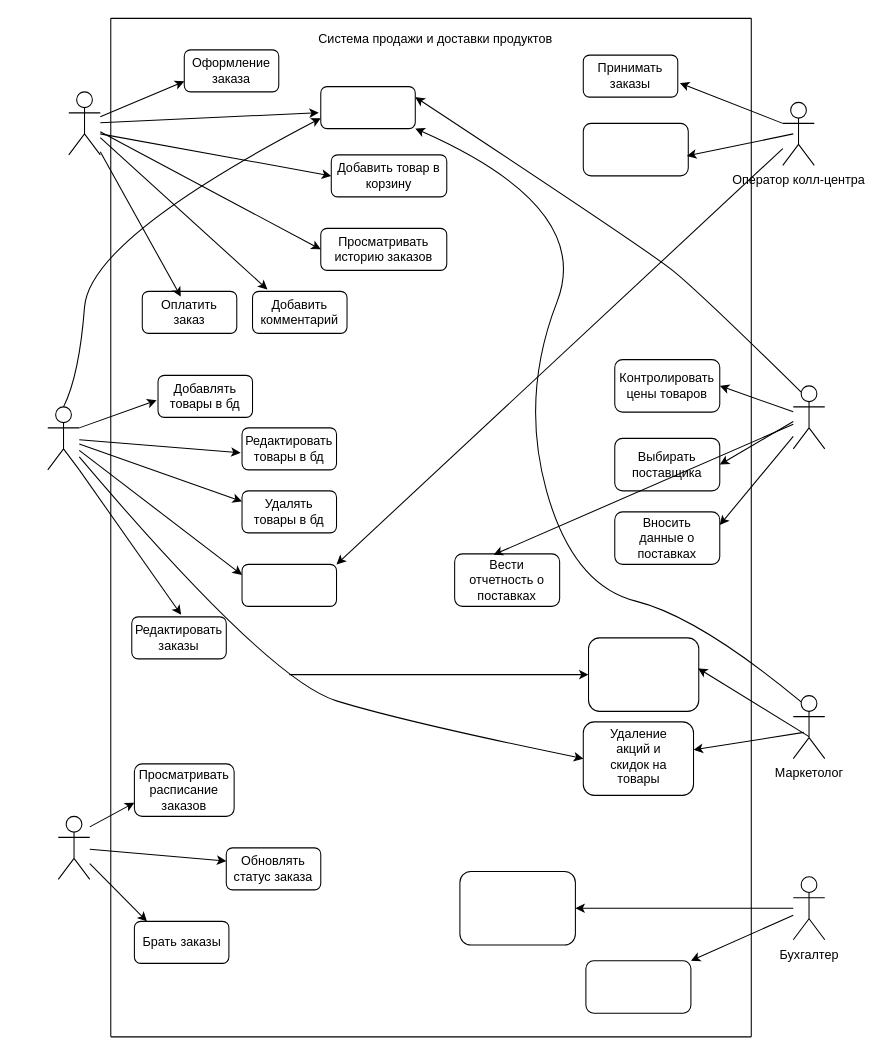
Some shapes in this 883 by 1056 pixel diagram are drawn without their labels. The shapes that lost their labels are listed below. From the top down, each one's centre as x and y in pixels, then its label:
At [84,123]: "Клиент".
At [367,107]: "Просматривать товары".
At [635,149]: "Просматривать историю клиента".
At [808,417]: "Менеджер".
At [63,438]: "Администратор".
At [289,584]: "Просматривать заказы".
At [643,674]: "Размещение акций и скидок на товары".
At [73,847]: "Курьер".
At [517,907]: "Вести учет доходов и расходов".
At [638,986]: "Формировать финансовые отчеты".
